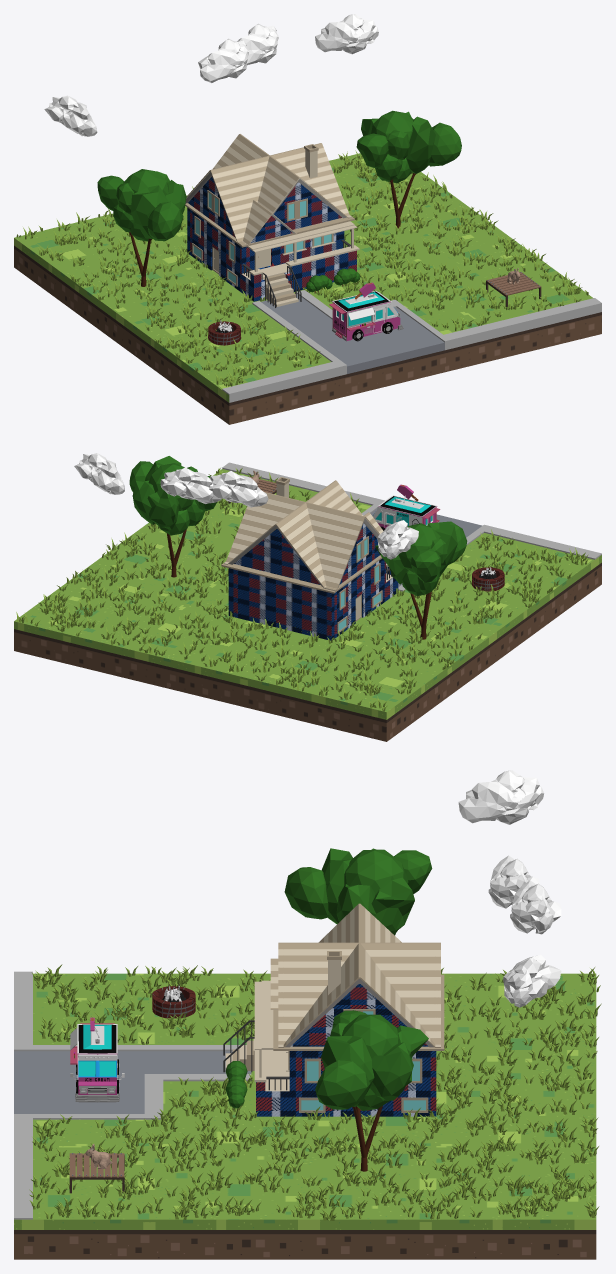
3 renders of one model, top to bottom at view 1: azimuth 30°, elevation 25°; view 2: azimuth 150°, elevation 25°; view 3: azimuth 270°, elevation 25°, orthographic. The views are drawn at different scales.
Parts seen in each view (by area): view 1: Cube.006, Cube.171, Circle.012_Grass_0.192, Cube.007, tree, tree.001, VEHICLES_ICE_CREAM_TRUCK, Cube.009, OBJRANDOM_CAMPFIRE; view 2: Cube.006, Cube.171, Circle.012_Grass_0.192, Cube.007, tree.001, tree, VEHICLES_ICE_CREAM_TRUCK, OBJRANDOM_CAMPFIRE; view 3: Cube.006, Circle.012_Grass_0.192, Cube.171, tree, Cube.007, tree.001, VEHICLES_ICE_CREAM_TRUCK, Cube.009, OBJRANDOM_CAMPFIRE.
Part boxes in pixels (<box>): Cube.006: <box>14,153,601,424</box>; Cube.171: <box>185,134,359,307</box>; Circle.012_Grass_0.192: <box>16,150,588,386</box>; Cube.007: <box>44,14,378,136</box>; tree: <box>356,110,461,228</box>; tree.001: <box>97,169,186,286</box>; VEHICLES_ICE_CREAM_TRUCK: <box>329,282,403,341</box>; Cube.009: <box>486,272,541,306</box>; OBJRANDOM_CAMPFIRE: <box>208,319,241,345</box>; Cube.006: <box>14,462,601,741</box>; Cube.171: <box>221,477,398,640</box>; Circle.012_Grass_0.192: <box>16,468,588,711</box>; Cube.007: <box>74,453,418,559</box>; tree.001: <box>375,521,467,639</box>; tree: <box>129,456,216,577</box>; VEHICLES_ICE_CREAM_TRUCK: <box>372,484,440,530</box>; OBJRANDOM_CAMPFIRE: <box>472,567,504,591</box>; Cube.006: <box>14,971,596,1259</box>; Circle.012_Grass_0.192: <box>29,964,601,1220</box>; Cube.171: <box>223,903,444,1116</box>; tree: <box>315,1010,428,1171</box>; Cube.007: <box>458,770,561,1007</box>; tree.001: <box>284,848,432,935</box>; VEHICLES_ICE_CREAM_TRUCK: <box>70,1017,124,1102</box>; Cube.009: <box>69,1153,124,1193</box>; OBJRANDOM_CAMPFIRE: <box>152,984,195,1018</box>.
Size of the model in its own units: 4071 by 2179 by 4040.
Materials: 42 (4 with a texture image).
